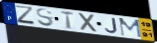J: (104, 17, 119, 34)
M: (118, 17, 143, 39)
S: (35, 8, 55, 28)
T: (60, 10, 75, 31)
X: (77, 12, 99, 34)
Z: (15, 4, 38, 26)
